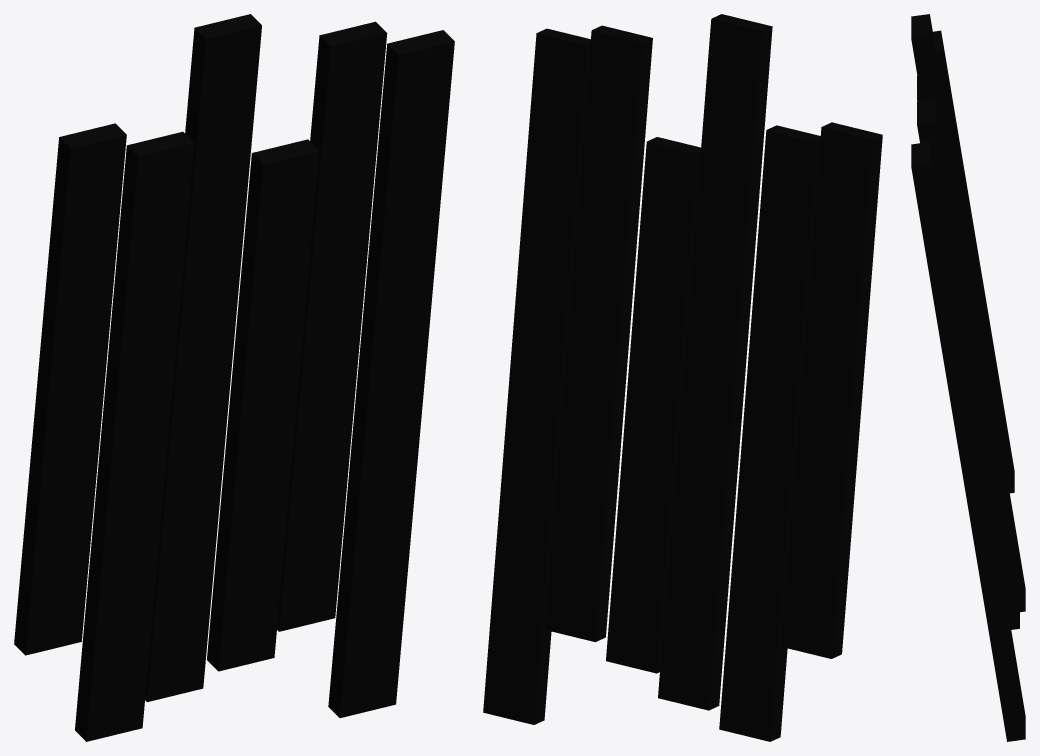
The model's file is rival_moss_train.obj.
3 renders of one model, left to right at view 1: azimuth 30°, elevation 25°; view 2: azimuth 150°, elevation 25°; view 3: azimuth 270°, elevation 25°, orthographic. The views are drawn at different scales.
Parts seen in each view (by area): view 1: rival_moss_train; view 2: rival_moss_train; view 3: rival_moss_train.
Part boxes in pixels (left/top/right/bottom): rival_moss_train: left=14, top=14, right=454, bottom=741; rival_moss_train: left=483, top=14, right=882, bottom=741; rival_moss_train: left=911, top=14, right=1025, bottom=741.
Size of the model in its own units: 0.5876 by 1.15 by 0.1896.
